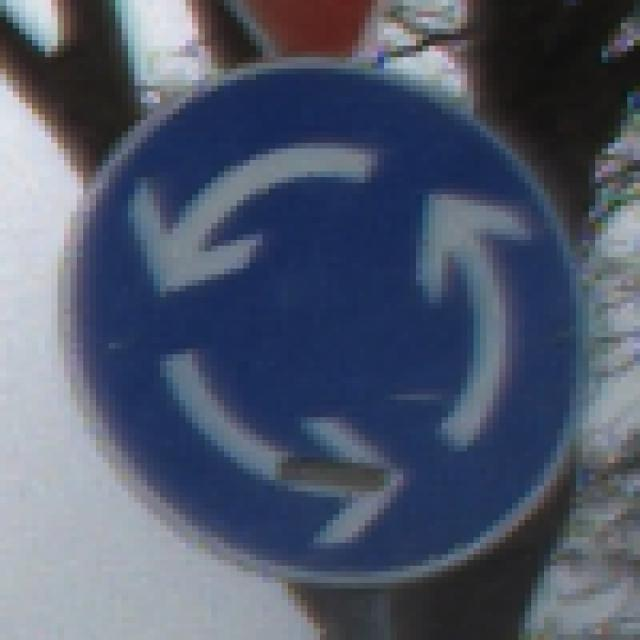roundabout: (49, 52, 598, 598)
